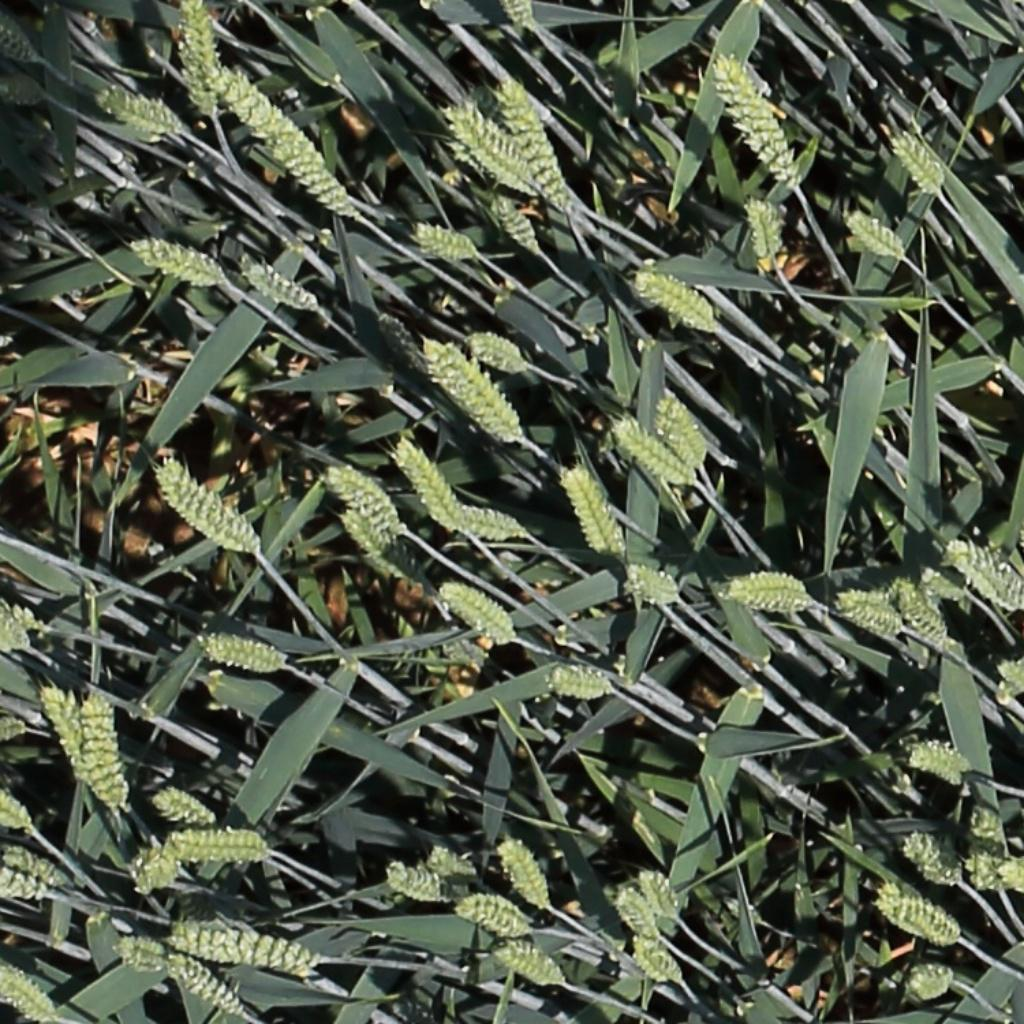0-0: (711, 54, 804, 198), (34, 687, 132, 812), (420, 338, 527, 452), (495, 75, 576, 220), (207, 79, 329, 171), (154, 461, 263, 561), (264, 132, 367, 223), (445, 102, 543, 197), (167, 922, 325, 973), (389, 434, 462, 532), (168, 3, 225, 128), (335, 515, 426, 592), (315, 457, 405, 532), (559, 462, 622, 559), (613, 420, 694, 493), (162, 953, 251, 1018), (77, 694, 123, 818), (947, 539, 1023, 613), (435, 582, 520, 648), (126, 240, 231, 291), (876, 890, 966, 948), (633, 270, 716, 331), (492, 835, 551, 918), (717, 568, 815, 617), (887, 126, 948, 204), (491, 936, 569, 994), (238, 259, 323, 312), (94, 88, 183, 138), (655, 386, 706, 473), (888, 578, 948, 649), (198, 629, 291, 672), (970, 804, 1012, 899), (831, 588, 910, 636), (126, 838, 187, 898), (843, 207, 906, 265), (370, 305, 424, 372), (488, 193, 546, 255), (899, 834, 965, 888), (744, 199, 787, 278), (608, 884, 667, 940), (169, 831, 272, 863), (386, 861, 460, 905), (902, 740, 974, 785), (454, 893, 529, 936), (633, 865, 685, 926), (897, 960, 959, 1010), (1, 966, 57, 1021), (447, 506, 528, 543), (463, 329, 531, 373), (410, 222, 482, 263), (546, 663, 619, 702), (110, 932, 173, 977), (633, 937, 687, 989), (965, 853, 1024, 899), (0, 69, 53, 118), (4, 849, 66, 890), (150, 790, 214, 828), (623, 565, 683, 603), (0, 867, 60, 903), (922, 564, 970, 604), (0, 15, 40, 62), (422, 845, 475, 880), (0, 787, 35, 836), (2, 595, 47, 633), (1, 617, 32, 659), (501, 0, 537, 34), (995, 658, 1024, 694)
